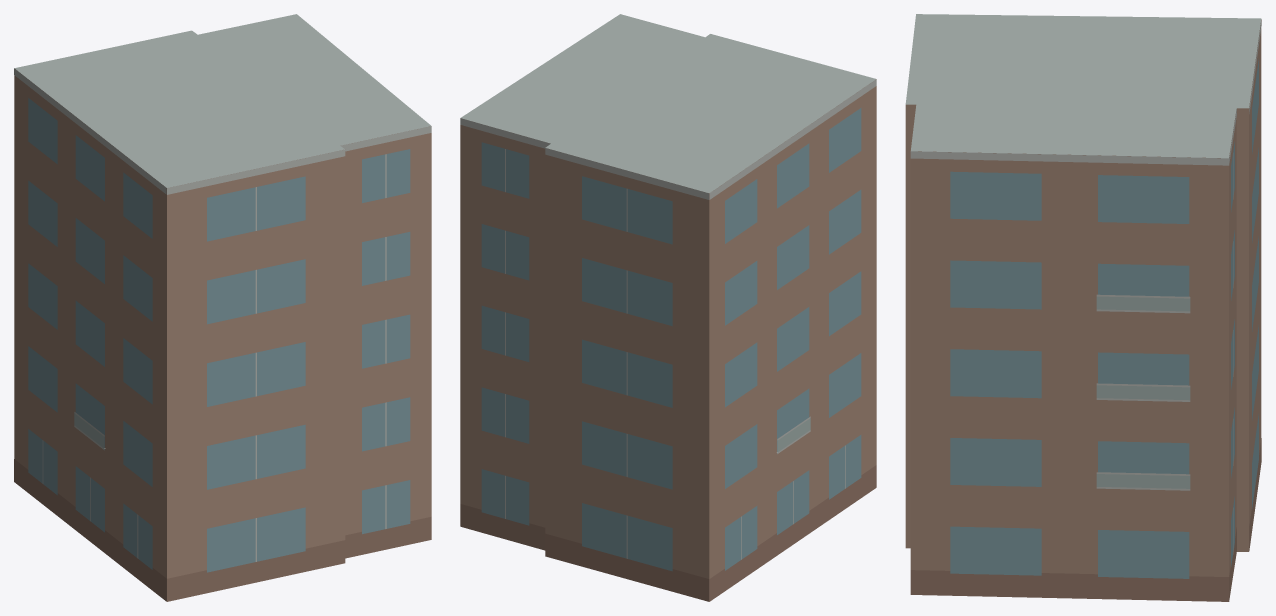
File: survey-upis-32800483.glb
3 renders of one model, left to right at view 1: azimuth 30°, elevation 25°; view 2: azimuth 150°, elevation 25°; view 3: azimuth 270°, elevation 25°, orthographic. The views are drawn at different scales.
Visible parts, largest first — view 1: survey-upis-32800483.tmp; view 2: survey-upis-32800483.tmp; view 3: survey-upis-32800483.tmp.
Part boxes in pixels (x1,y1,x2,y2): survey-upis-32800483.tmp: (14, 14, 431, 601); survey-upis-32800483.tmp: (460, 14, 876, 601); survey-upis-32800483.tmp: (905, 14, 1261, 601).
Bounding box in the file's own units: 10.31 × 14.77 × 10.75.
